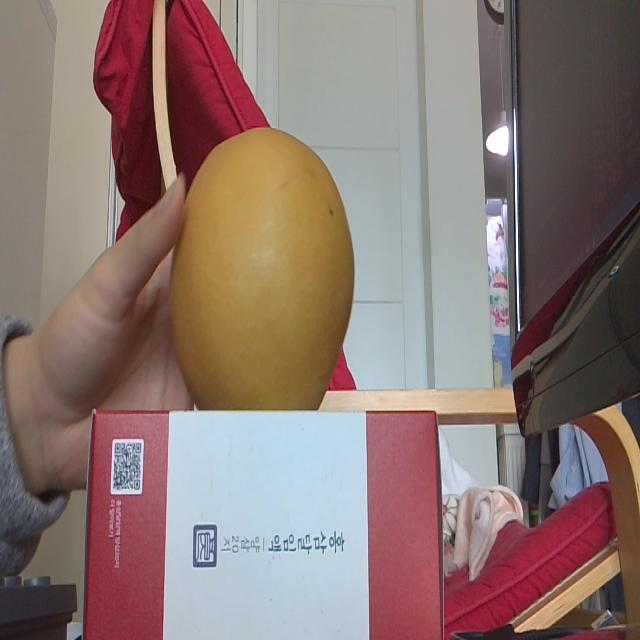pear: (166, 126, 358, 410)
